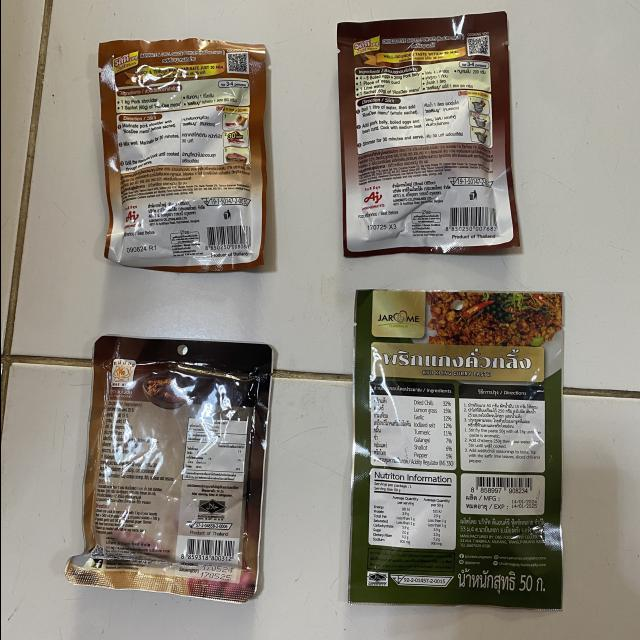plastik: (347, 290, 562, 609), (64, 336, 271, 603), (336, 12, 518, 257), (97, 38, 265, 272)
